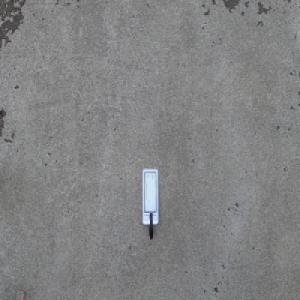LuggageTag: (141, 166, 159, 240)
